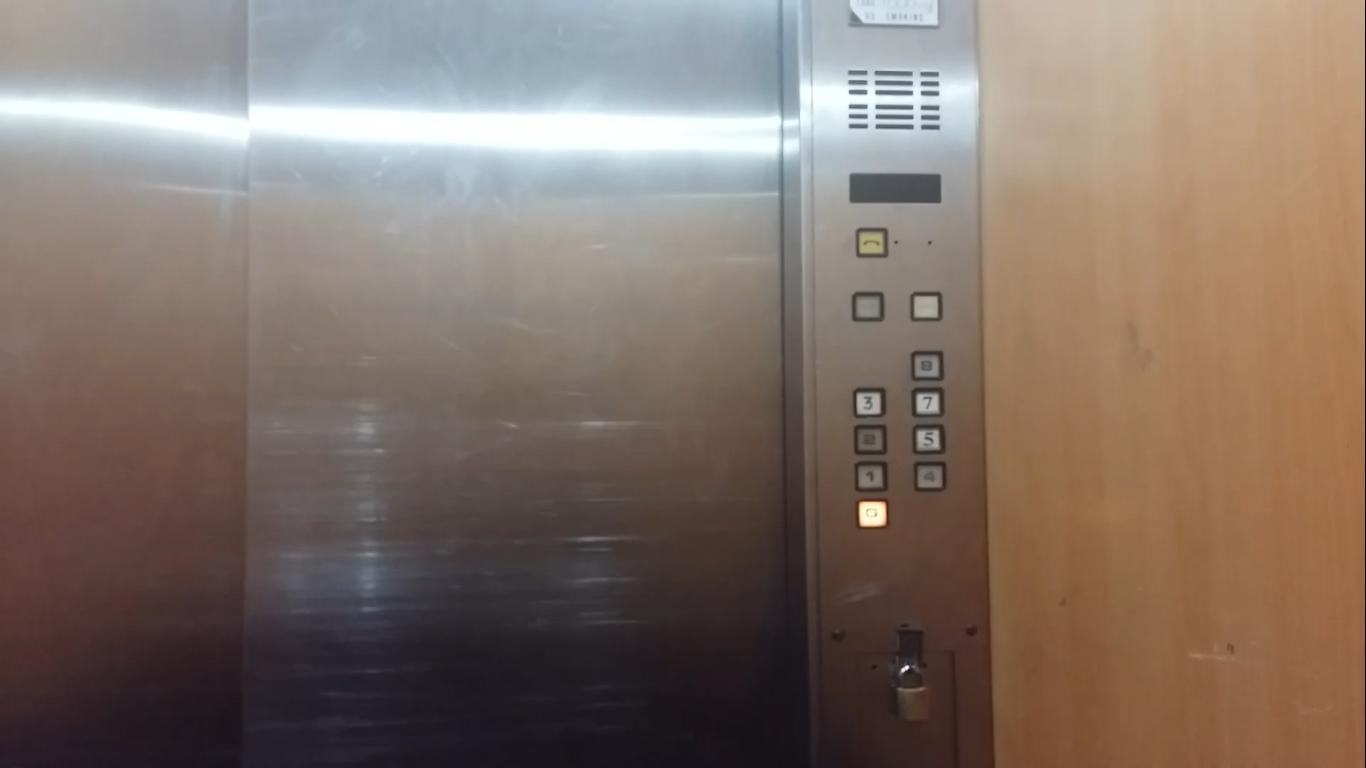1: (853, 460, 888, 491)
2: (853, 424, 887, 455)
3: (853, 386, 886, 418)
4: (912, 460, 948, 491)
5: (912, 423, 945, 453)
7: (912, 387, 945, 418)
8: (911, 349, 945, 381)
G: (855, 498, 889, 530)
call: (853, 227, 889, 259)
empty: (851, 290, 886, 323), (910, 289, 944, 322)
led: (849, 170, 943, 205)
